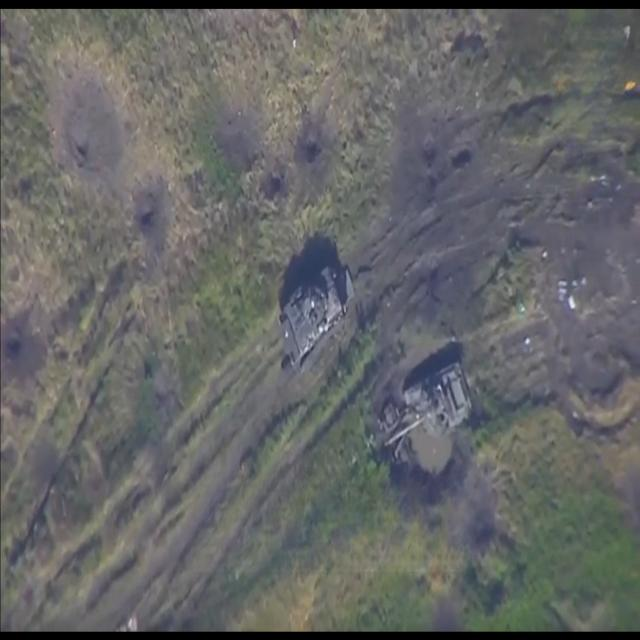AIFV: (279, 258, 357, 374)
MBT: (383, 361, 475, 474)
